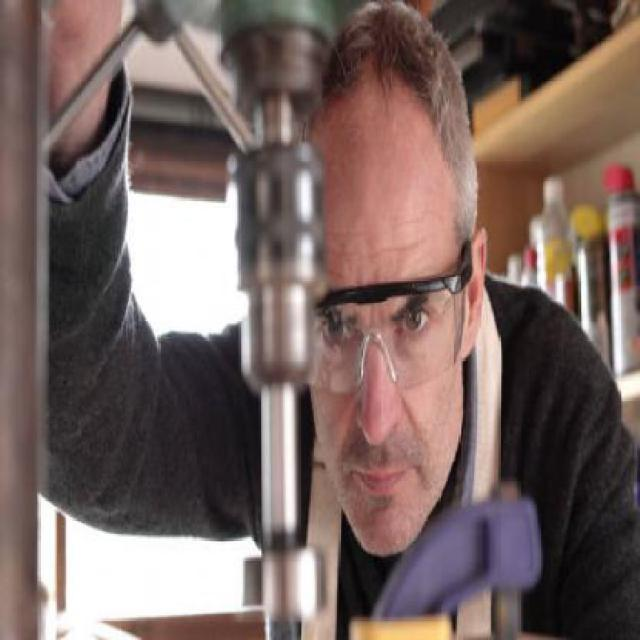glass: (312, 272, 466, 400)
head: (280, 8, 497, 565)
person: (59, 12, 625, 607)
